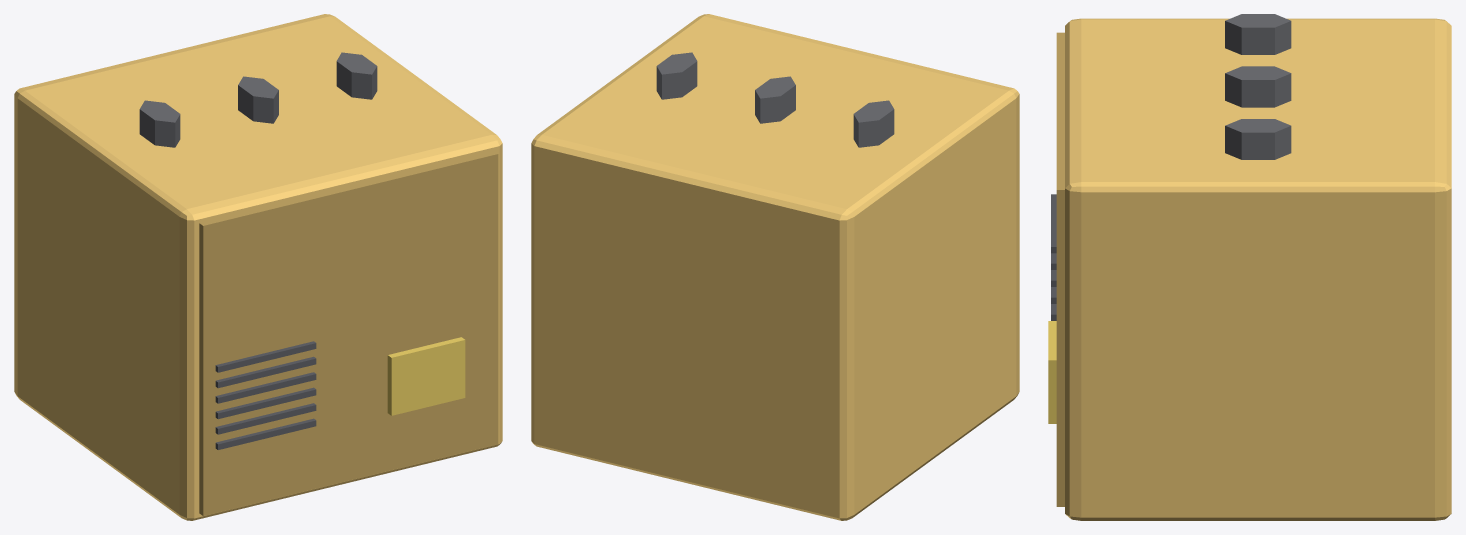
File: prop_relay.fbx
3 renders of one model, left to right at view 1: azimuth 30°, elevation 25°; view 2: azimuth 150°, elevation 25°; view 3: azimuth 270°, elevation 25°, orthographic. The views are drawn at different scales.
Visible parts, largest first — view 1: prop_relay; view 2: prop_relay; view 3: prop_relay.
Boxes of the visible parts, x1,y1,x2,y2 form: prop_relay: [14, 14, 502, 520]; prop_relay: [531, 14, 1019, 520]; prop_relay: [1048, 14, 1451, 520].
Size of the model in its own units: 1 by 1 by 1.
